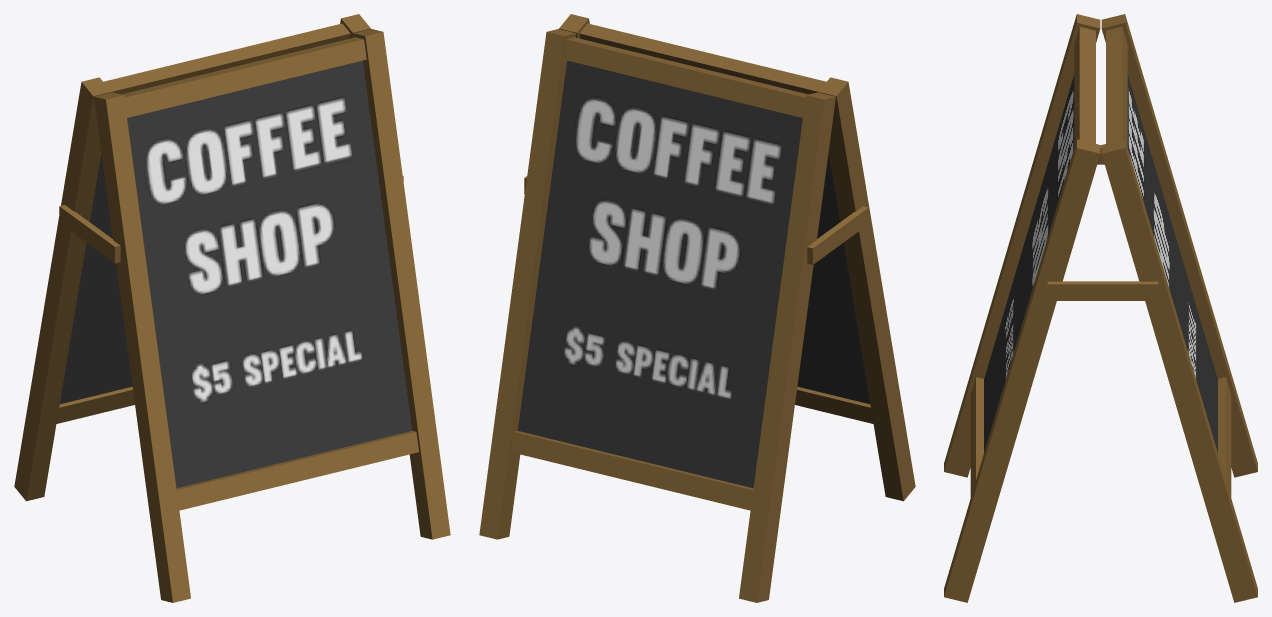
File: SM_SignFolding_05.fbx
The picture shows the model from 3 angles, left to right: view 1: azimuth 30°, elevation 25°; view 2: azimuth 150°, elevation 25°; view 3: azimuth 270°, elevation 25°; orthographic projection.
Visible parts, largest first — view 1: SM_SignFolding_05; view 2: SM_SignFolding_05; view 3: SM_SignFolding_05.
Part boxes in pixels (x1,y1,x2,y2): SM_SignFolding_05: (14,14,450,602); SM_SignFolding_05: (479,14,915,602); SM_SignFolding_05: (944,14,1257,602).
Bounding box in the file's own units: 1.06 × 1.62 × 1.01.
